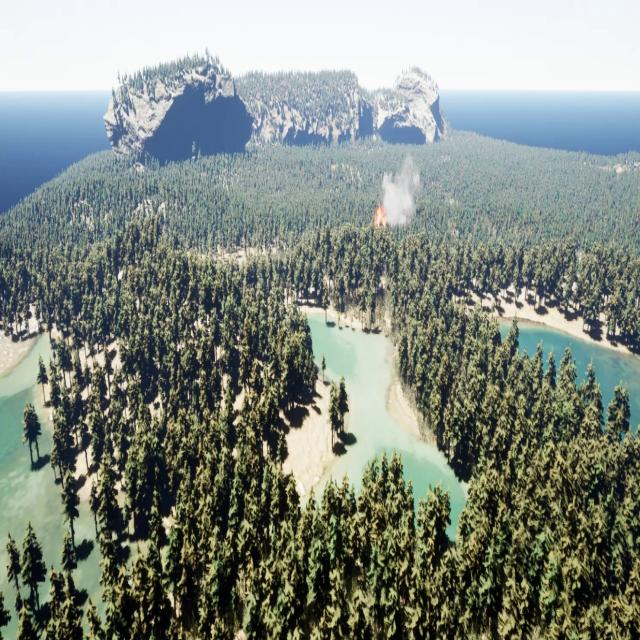fire: (374, 210, 384, 229)
smoke: (382, 159, 422, 231)
